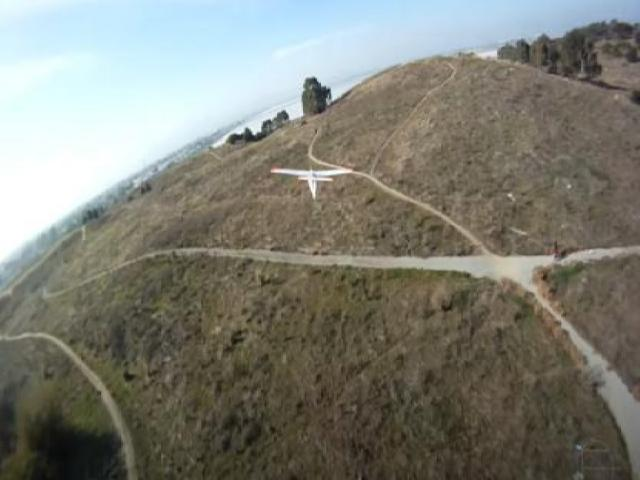uav: (263, 154, 359, 204)
